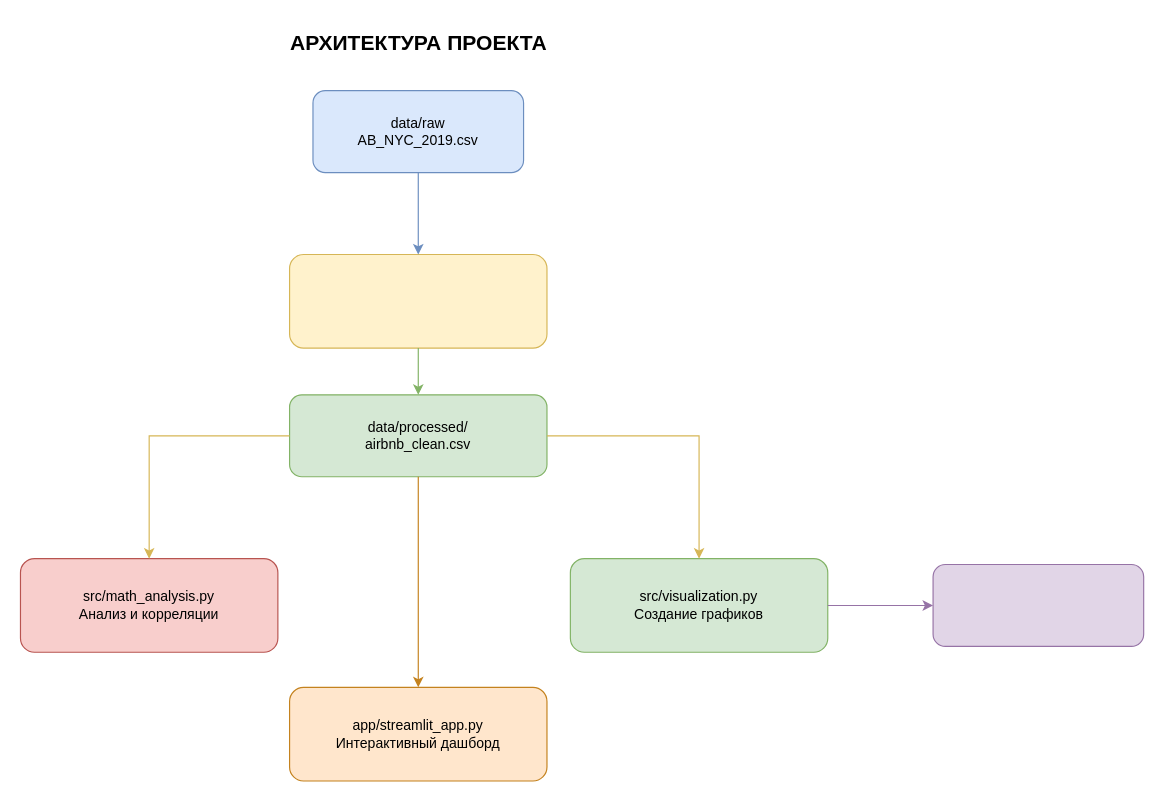
Image size: 1164x801. Some labels were removed from this diagram. The shapes that lost their labels are listed below. From the top down, each one's box as (x1, y1, x2, y2) in pixels, then its label:
(288, 253, 547, 348): src/data_cleaning.py Очистка данных
(932, 563, 1144, 646): img/ Сохранённые графики
